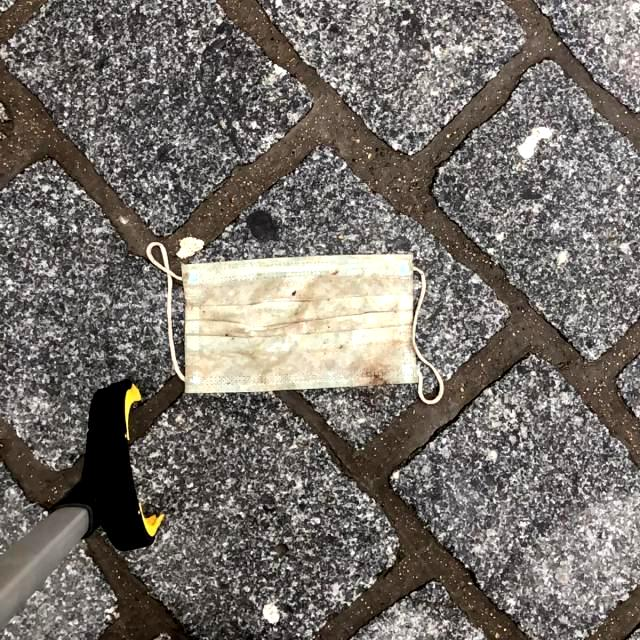Mask: (144, 239, 446, 405)
